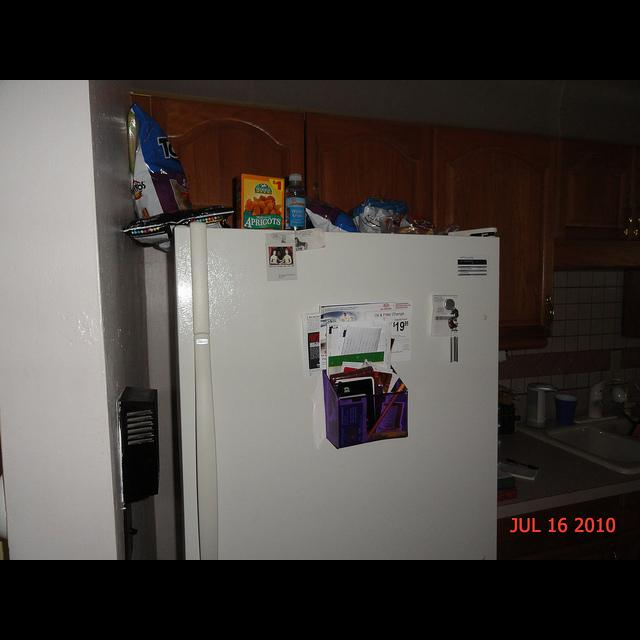Refrigerator: (170, 222, 501, 559)
